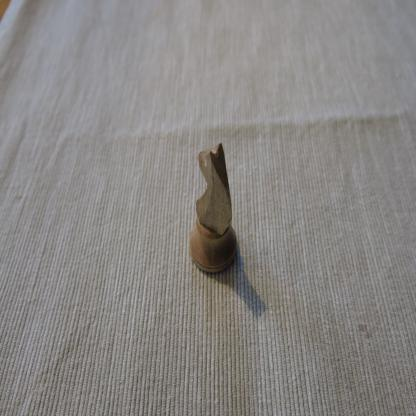white-knight: (188, 140, 238, 274)
